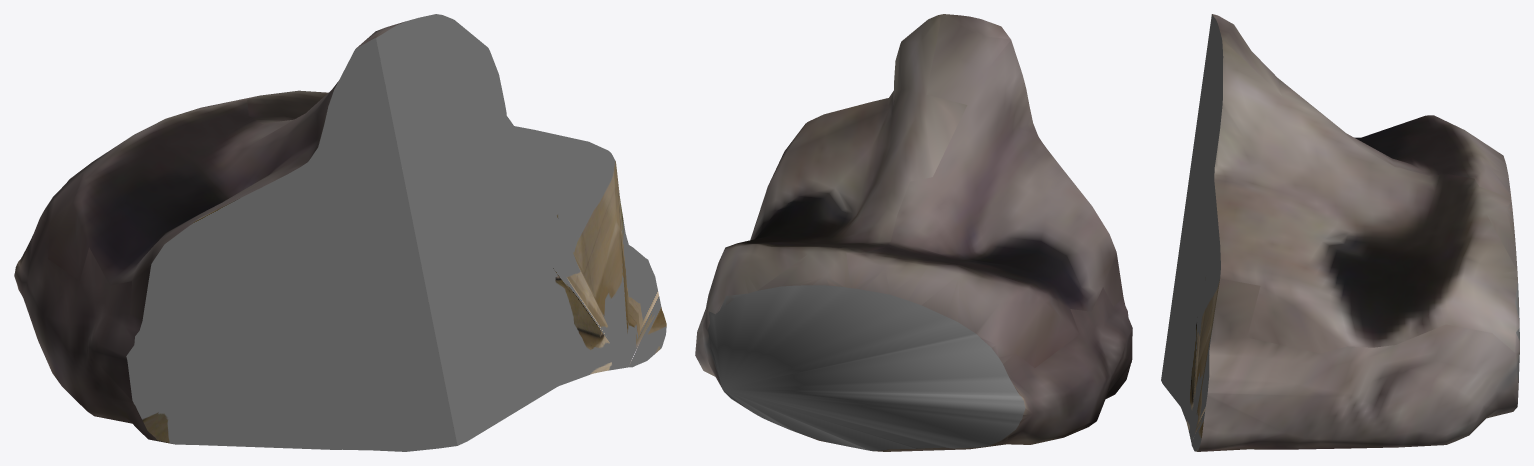
File: fragment0.obj
The picture shows the model from 3 angles, left to right: view 1: azimuth 30°, elevation 25°; view 2: azimuth 150°, elevation 25°; view 3: azimuth 270°, elevation 25°; orthographic projection. The views are drawn at different scales.
Parts seen in each view (by area): view 1: sculpt_cell.001; view 2: sculpt_cell.001; view 3: sculpt_cell.001.
Part boxes in pixels (x1=…): sculpt_cell.001: x1=14, y1=14, x2=666, y2=451; sculpt_cell.001: x1=695, y1=14, x2=1132, y2=451; sculpt_cell.001: x1=1161, y1=14, x2=1519, y2=451.
Size of the model in its own units: 5.28 by 4.3 by 3.77.
Materials: 1 (1 with a texture image).
